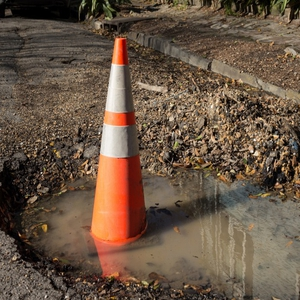pothole: (2, 128, 295, 300)
